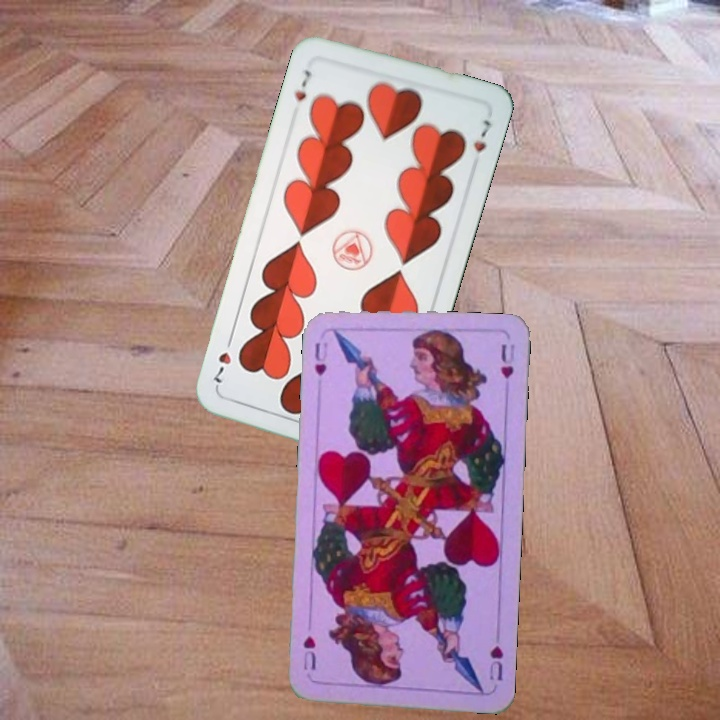H7: (290, 66, 317, 104)
HU: (485, 641, 506, 684), (310, 338, 331, 379)
